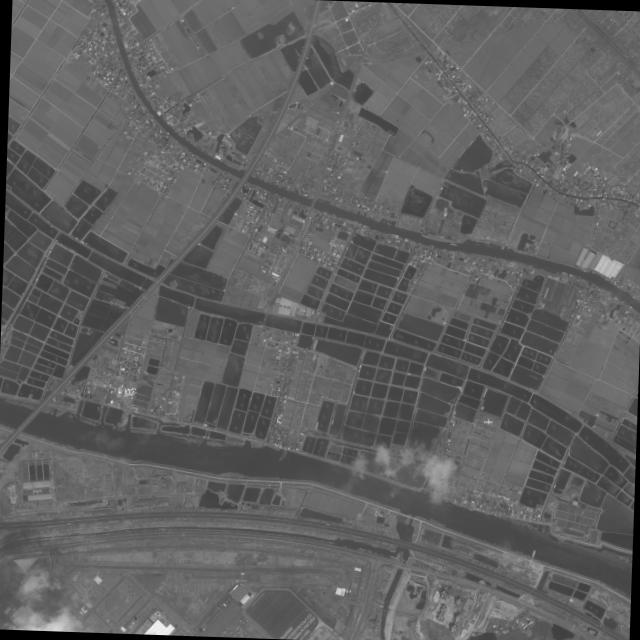plane: (481, 417, 493, 426)
ship: (277, 450, 285, 461), (280, 451, 287, 461), (448, 243, 457, 246)
